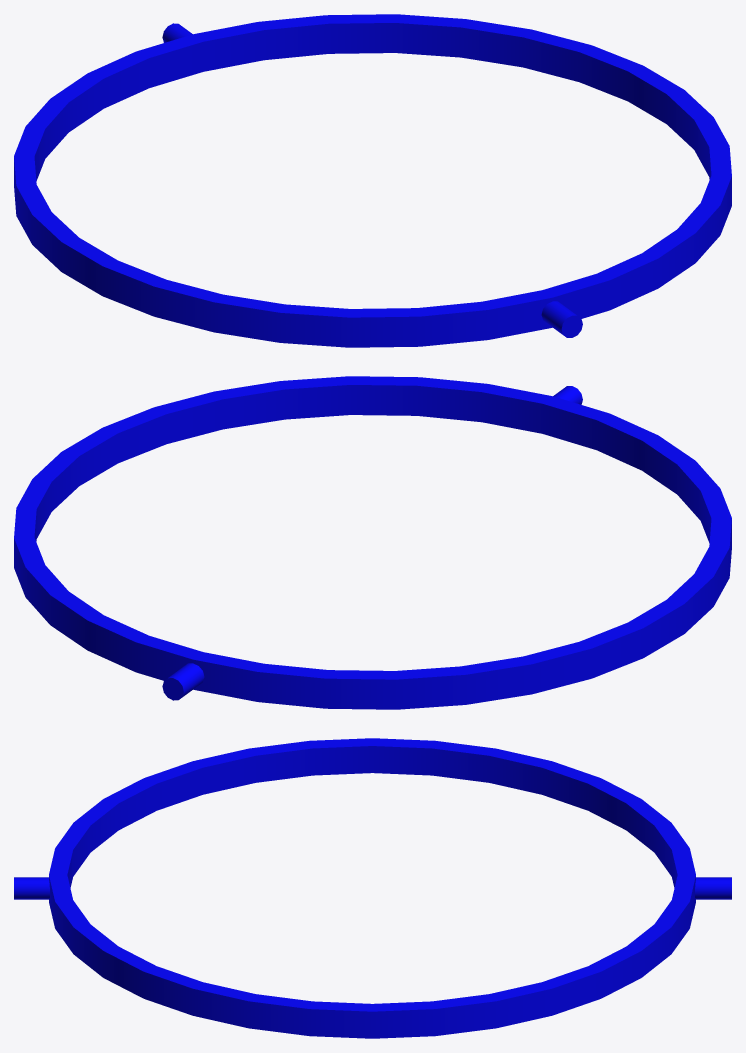
File: gimbal_middle_z.glb
3 renders of one model, top to bottom at view 1: azimuth 30°, elevation 25°; view 2: azimuth 150°, elevation 25°; view 3: azimuth 270°, elevation 25°, orthographic. The views are drawn at different scales.
Visible parts, largest first — view 1: GimballBlue.001; view 2: GimballBlue.001; view 3: GimballBlue.001.
Boxes of the visible parts, x1=… form: GimballBlue.001: x1=14, y1=14, x2=731, y2=347; GimballBlue.001: x1=14, y1=376, x2=731, y2=709; GimballBlue.001: x1=14, y1=738, x2=731, y2=1038.
Size of the model in its own units: 6.49 by 0.3 by 7.2.
